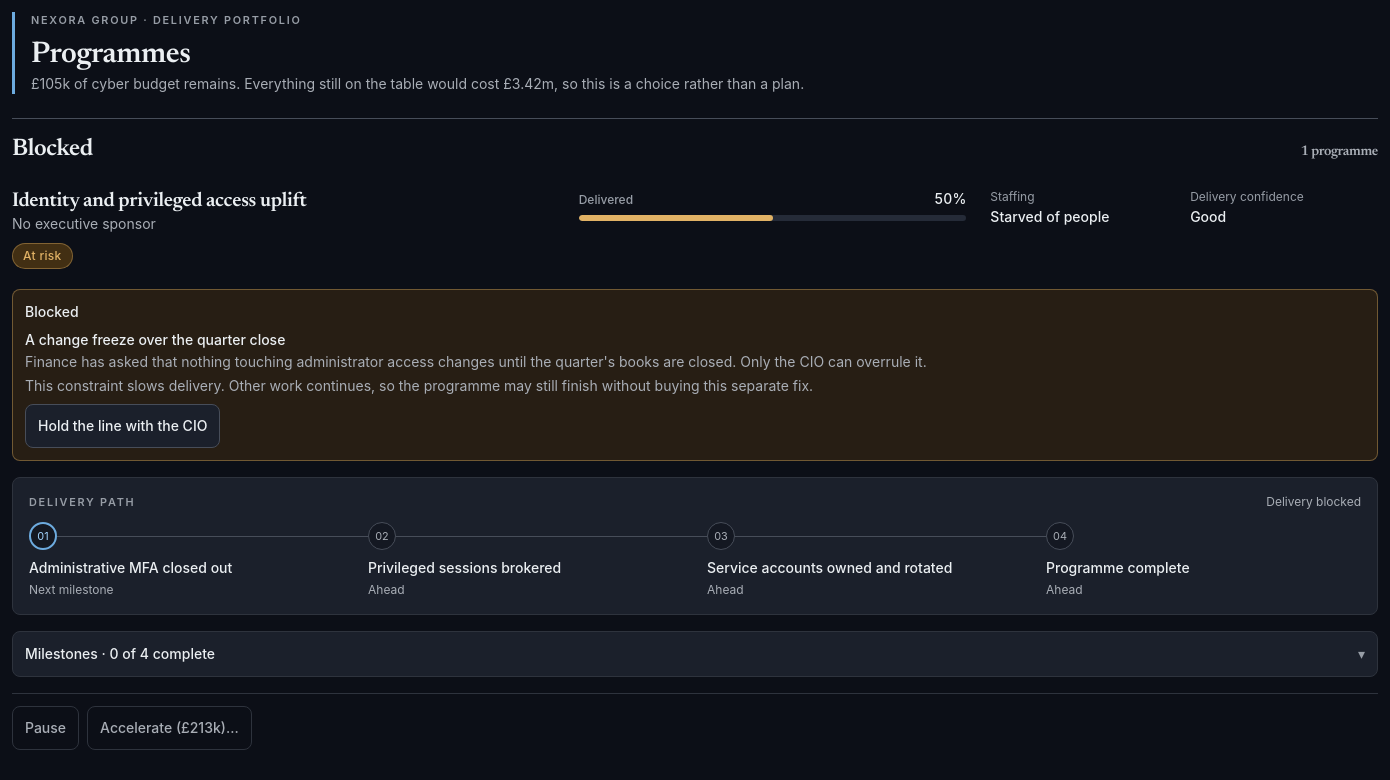
Test: confirms clearing the CIO blocker with actual attention and budget spent
Click the button "Hold the line with the CIO" at [123, 426], box [25, 404, 220, 448]
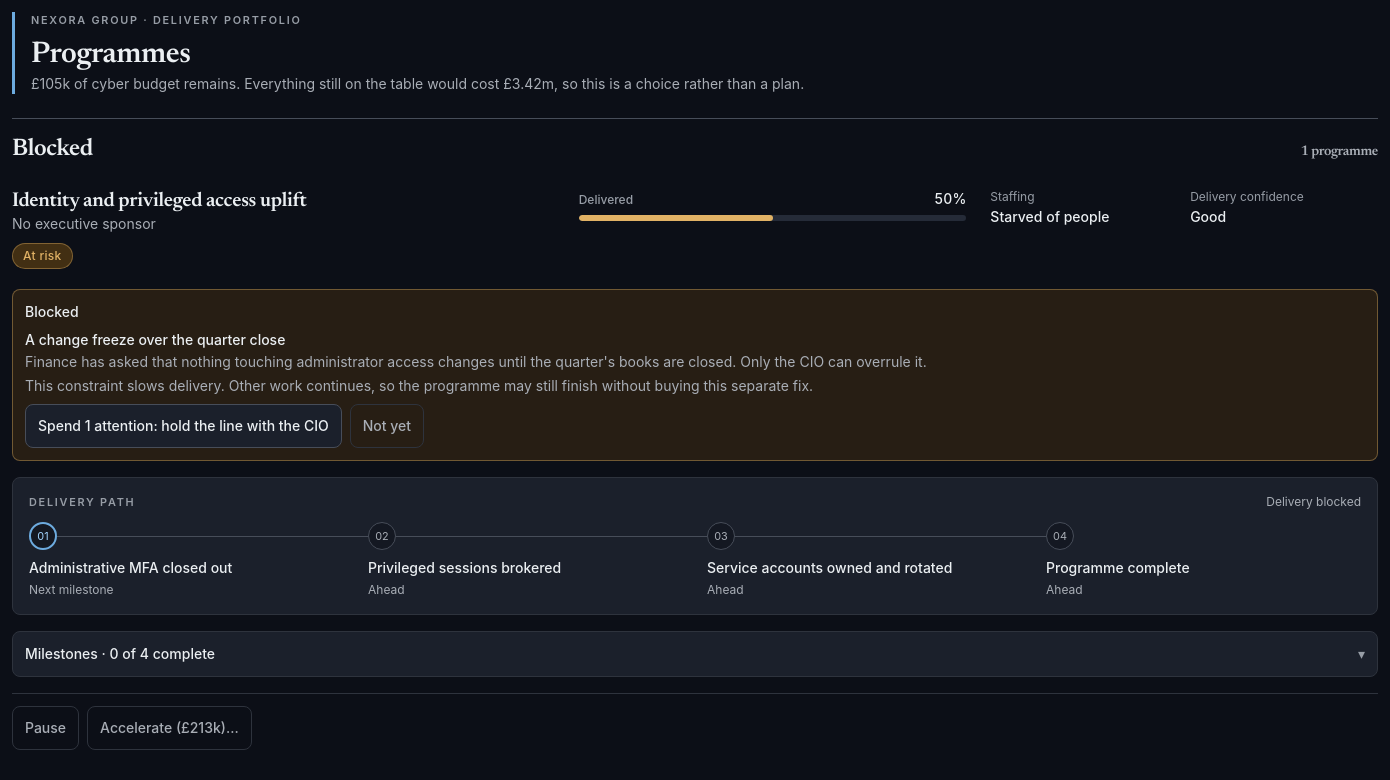
Click the button "Spend 1 attention: hold the line with the CIO" at [183, 426], box [25, 404, 342, 448]
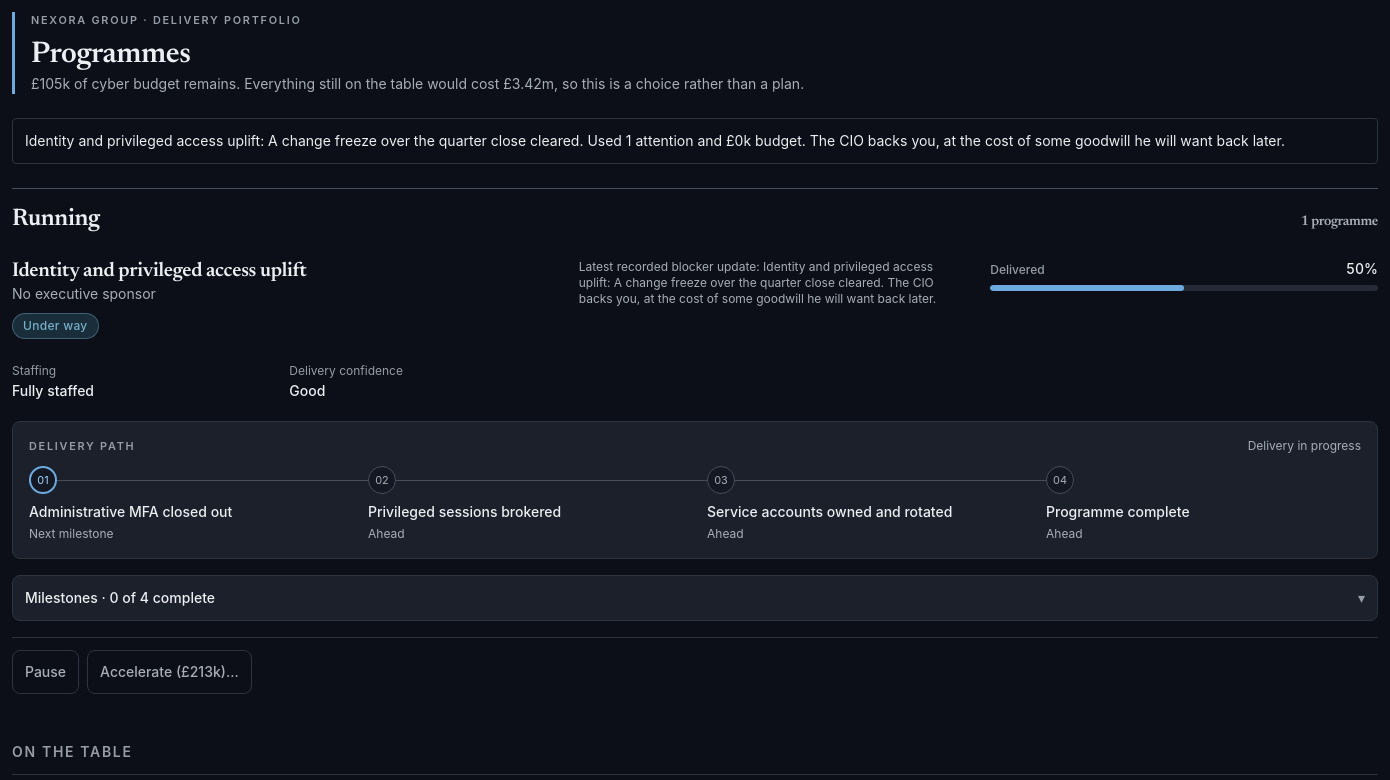
Expected: the message named "Blocker cleared" shows "Used 1 attention and £0k budget", [25, 132, 1285, 149]
Expected: the button "hold the line with the CIO" is gone
